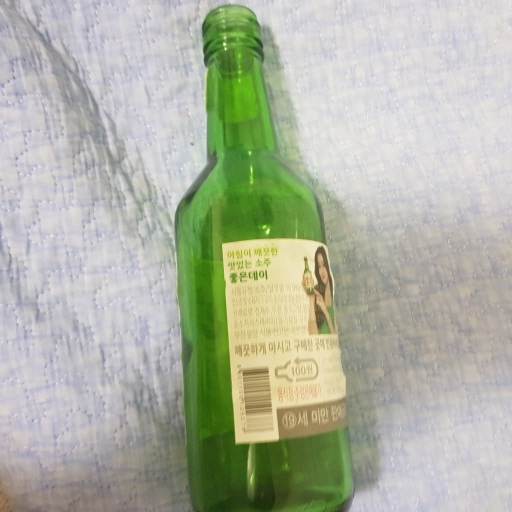Glass_0: (171, 2, 355, 512)
